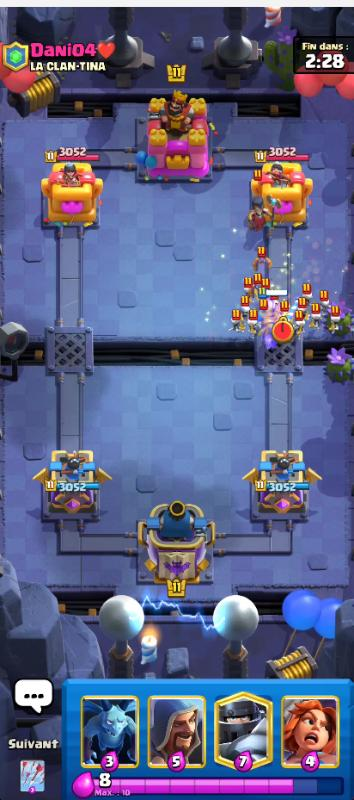bat: (246, 241, 277, 274)
squelette: (311, 302, 326, 337), (310, 293, 336, 312), (235, 294, 255, 318), (225, 308, 244, 332), (292, 312, 310, 337), (241, 275, 258, 301), (259, 298, 278, 319), (303, 281, 318, 307), (294, 295, 312, 315), (329, 312, 343, 331)
